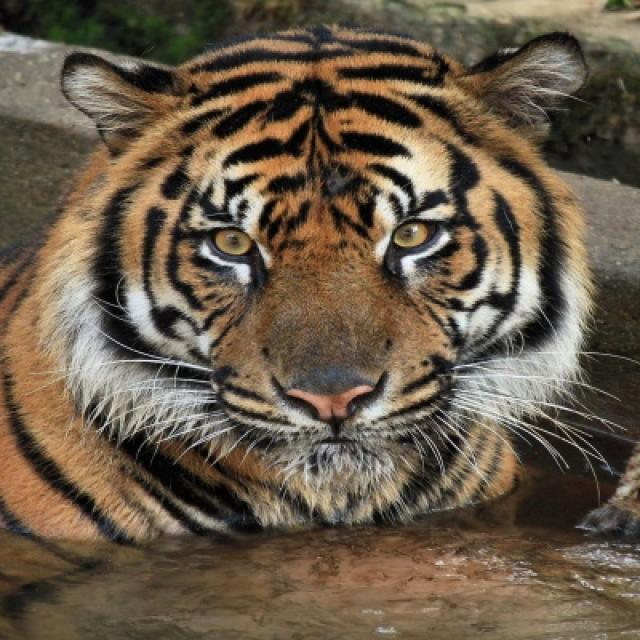Tiger: (0, 27, 592, 542)
